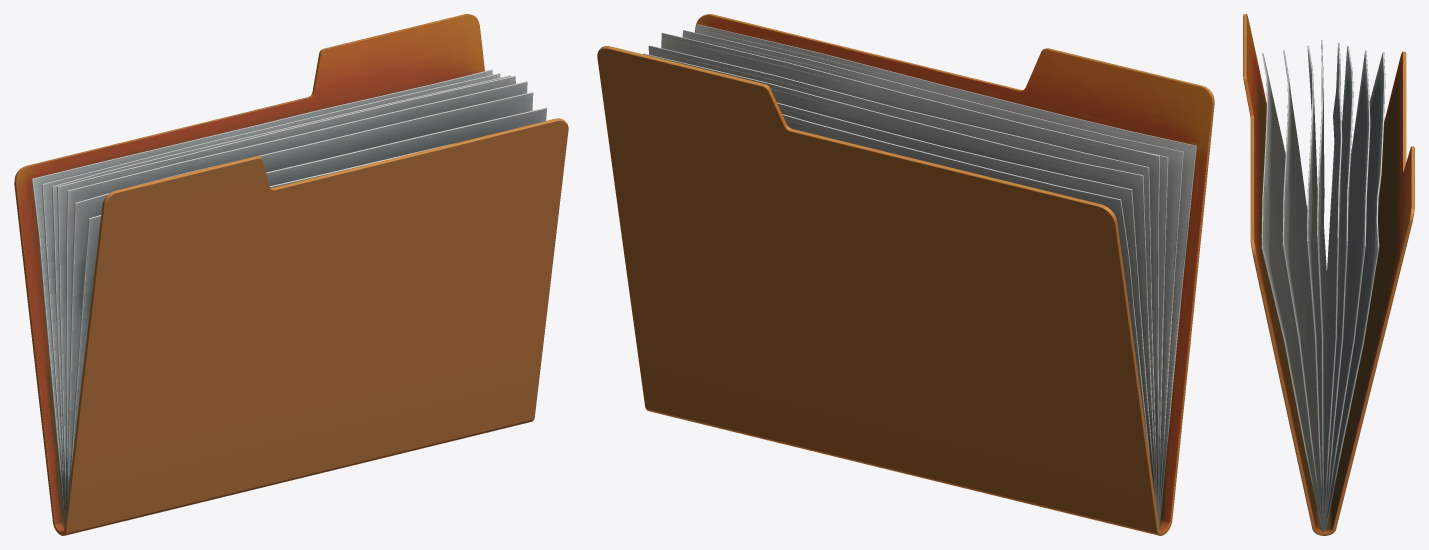
The model's file is FolderWithContent.gltf.
3 renders of one model, left to right at view 1: azimuth 30°, elevation 25°; view 2: azimuth 150°, elevation 25°; view 3: azimuth 270°, elevation 25°, orthographic. The views are drawn at different scales.
Parts seen in each view (by area): view 1: node_id48; view 2: node_id48; view 3: node_id48.
Boxes of the visible parts, x1=… form: node_id48: x1=14, y1=14, x2=568, y2=535; node_id48: x1=597, y1=14, x2=1214, y2=535; node_id48: x1=1243, y1=14, x2=1414, y2=535.
Size of the model in its own units: 0.512 by 0.39 by 0.186.
Materials: 1 (1 with a texture image).
